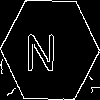N: (25, 25, 57, 71)
